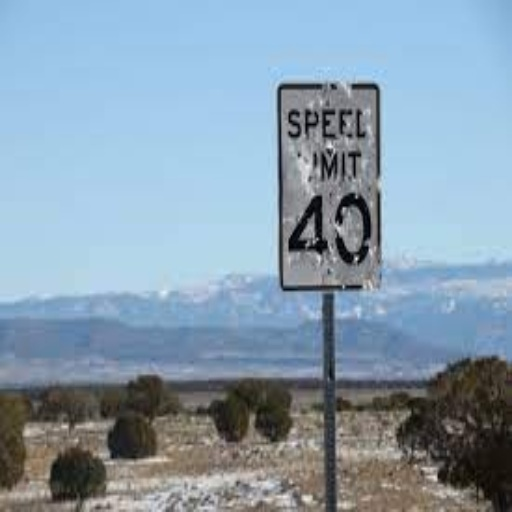Speed limit: (252, 62, 407, 305)
